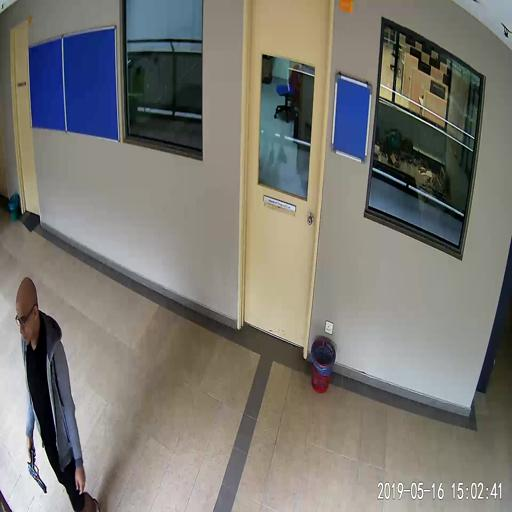pistol: (26, 446, 47, 494)
